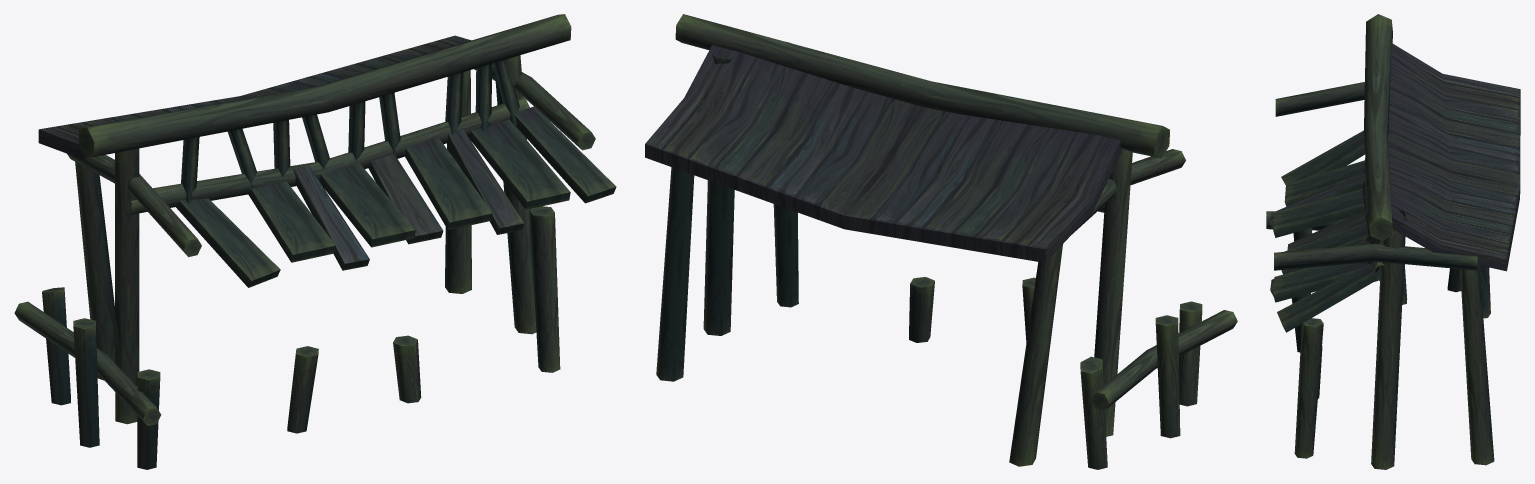
Rendered from pomajiu1.FBX.
3 renders of one model, left to right at view 1: azimuth 30°, elevation 25°; view 2: azimuth 150°, elevation 25°; view 3: azimuth 270°, elevation 25°, orthographic. The views are drawn at different scales.
Parts seen in each view (by area): view 1: pomajiu1; view 2: pomajiu1; view 3: pomajiu1.
Boxes of the visible parts, x1,y1,x2,y2 form: pomajiu1: (14,14,616,469); pomajiu1: (645,14,1237,469); pomajiu1: (1266,14,1520,469).
Bounding box in the file's own units: 752 × 393 × 454.
